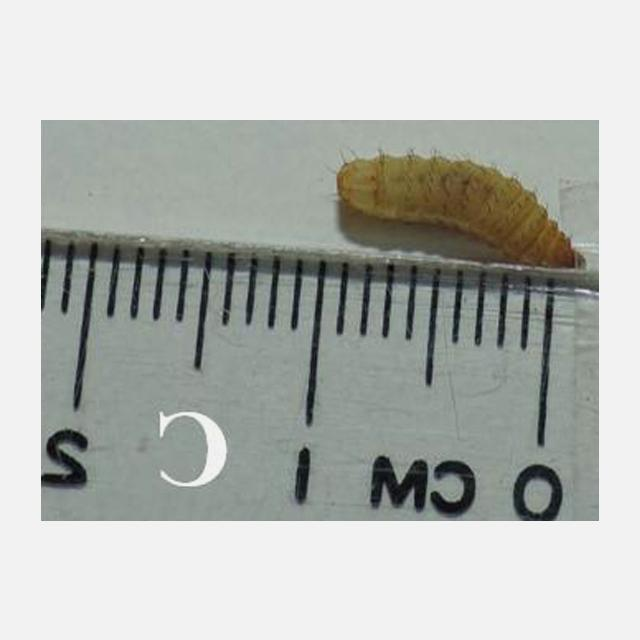Maggot: (330, 150, 587, 279)
